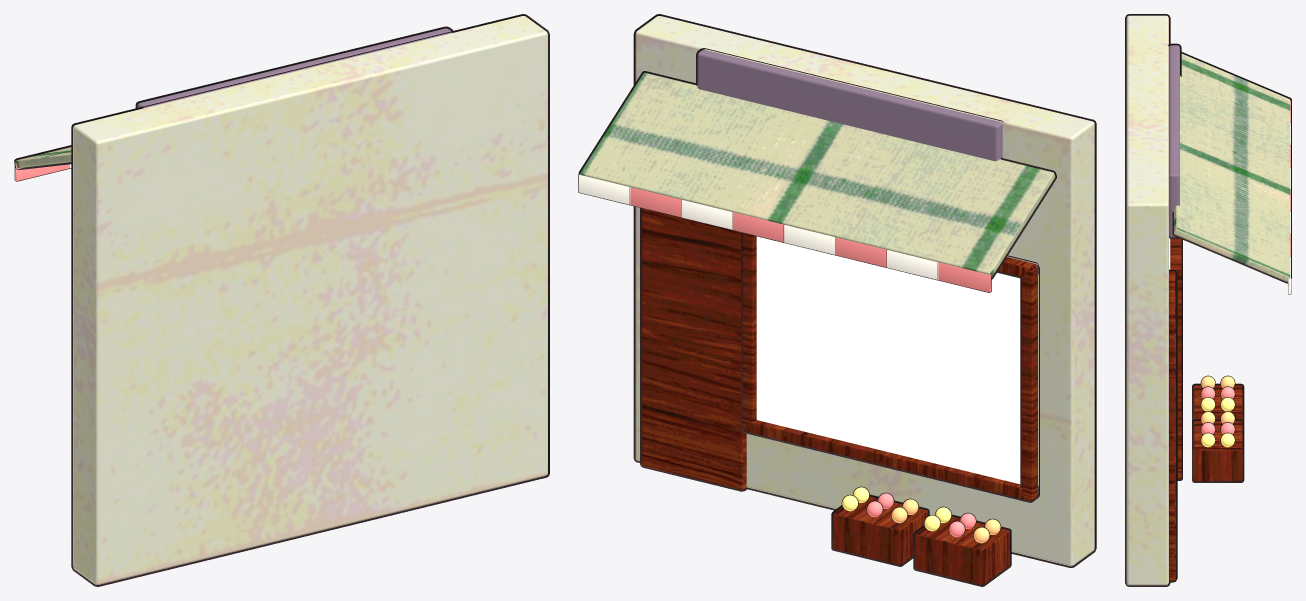
Rendered from vetrina_bottega.glb.
The picture shows the model from 3 angles, left to right: view 1: azimuth 30°, elevation 25°; view 2: azimuth 150°, elevation 25°; view 3: azimuth 270°, elevation 25°; orthographic projection. The views are drawn at different scales.
Parts seen in each view (by area): view 1: Cube.074, insegna, Cube.081; view 2: Cube.074, Cube.075, Cube.081, Cube.080, insegna, Cube.090, Cube.077, Cube.078, Cube.091, Cube.079, Cube.082, Cube.089 (+6 smaller); view 3: Cube.074, Cube.081, Cube.080, Cube.091, insegna, Cube.079, Cube.090, Cube.076.
Part boxes in pixels (box(x1,y1,x2,y2)): Cube.074: box(71, 14, 549, 586); insegna: box(135, 26, 453, 108); Cube.081: box(14, 145, 71, 169); Cube.074: box(633, 14, 1096, 567); Cube.075: box(756, 236, 1020, 483); Cube.081: box(578, 71, 1056, 279); Cube.080: box(640, 208, 747, 491); insegna: box(696, 48, 1003, 161); Cube.090: box(913, 514, 1011, 586); Cube.077: box(742, 420, 1038, 502); Cube.078: box(1020, 265, 1039, 501); Cube.091: box(831, 494, 929, 566); Cube.079: box(741, 232, 756, 433); Cube.082: box(937, 262, 991, 292); Cube.089: box(578, 174, 630, 205); Cube.074: box(1125, 14, 1170, 586); Cube.081: box(1172, 52, 1291, 283); Cube.080: box(1169, 269, 1177, 582); Cube.091: box(1192, 419, 1244, 482); insegna: box(1168, 43, 1181, 238); Cube.079: box(1177, 270, 1182, 480); Cube.090: box(1192, 383, 1244, 421); Cube.076: box(1170, 238, 1182, 282).
Bounding box in the file's own units: 3.22 × 3.02 × 1.19.
13 materials, 5 textured.
